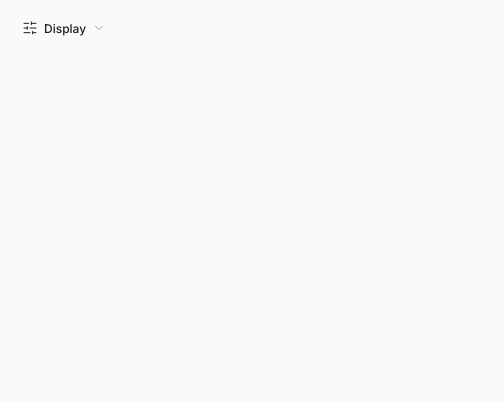
Test: grouping options carry live examples of what they would produce › mirrors the braindump two sections under its Type axis
Press the mouse on the button "Display" at (64, 28), box [12,12,116,44]
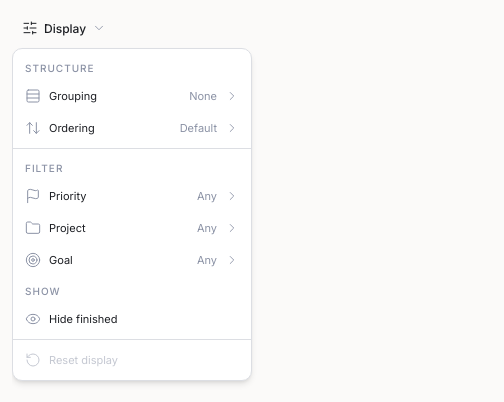
Click the menu item "Grouping None". click: (73, 96)
box: [25,88,239,104]
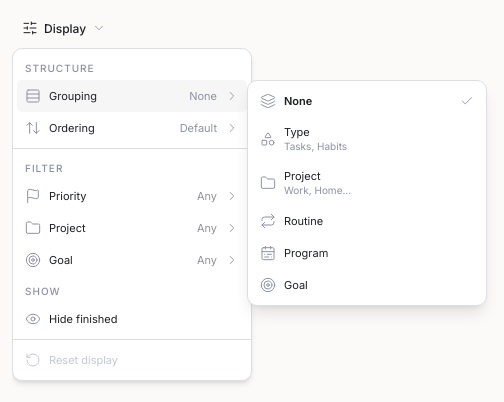
Check: the menu item "Type Tasks, Habits" is shown, box [260,125,347,152]
